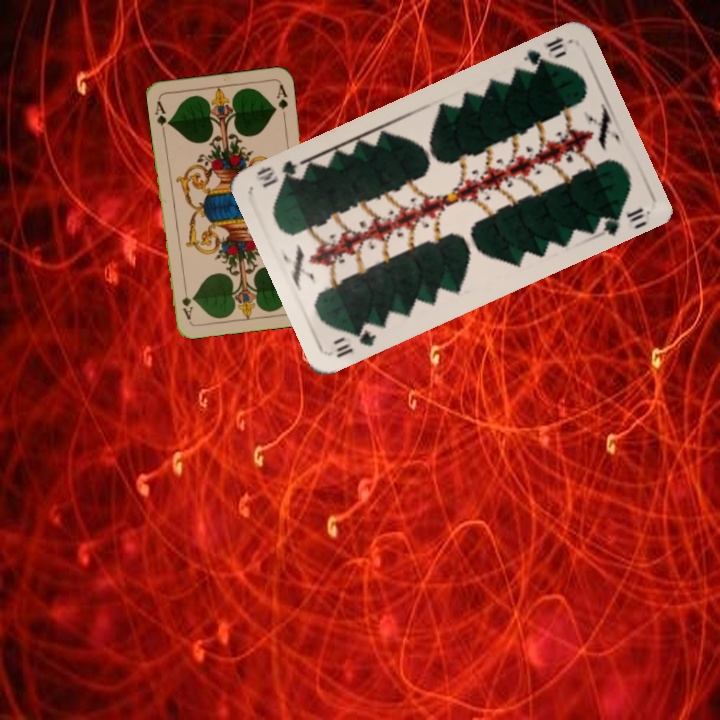G10: (519, 33, 569, 71), (332, 324, 379, 360)
GA: (151, 97, 173, 136)
